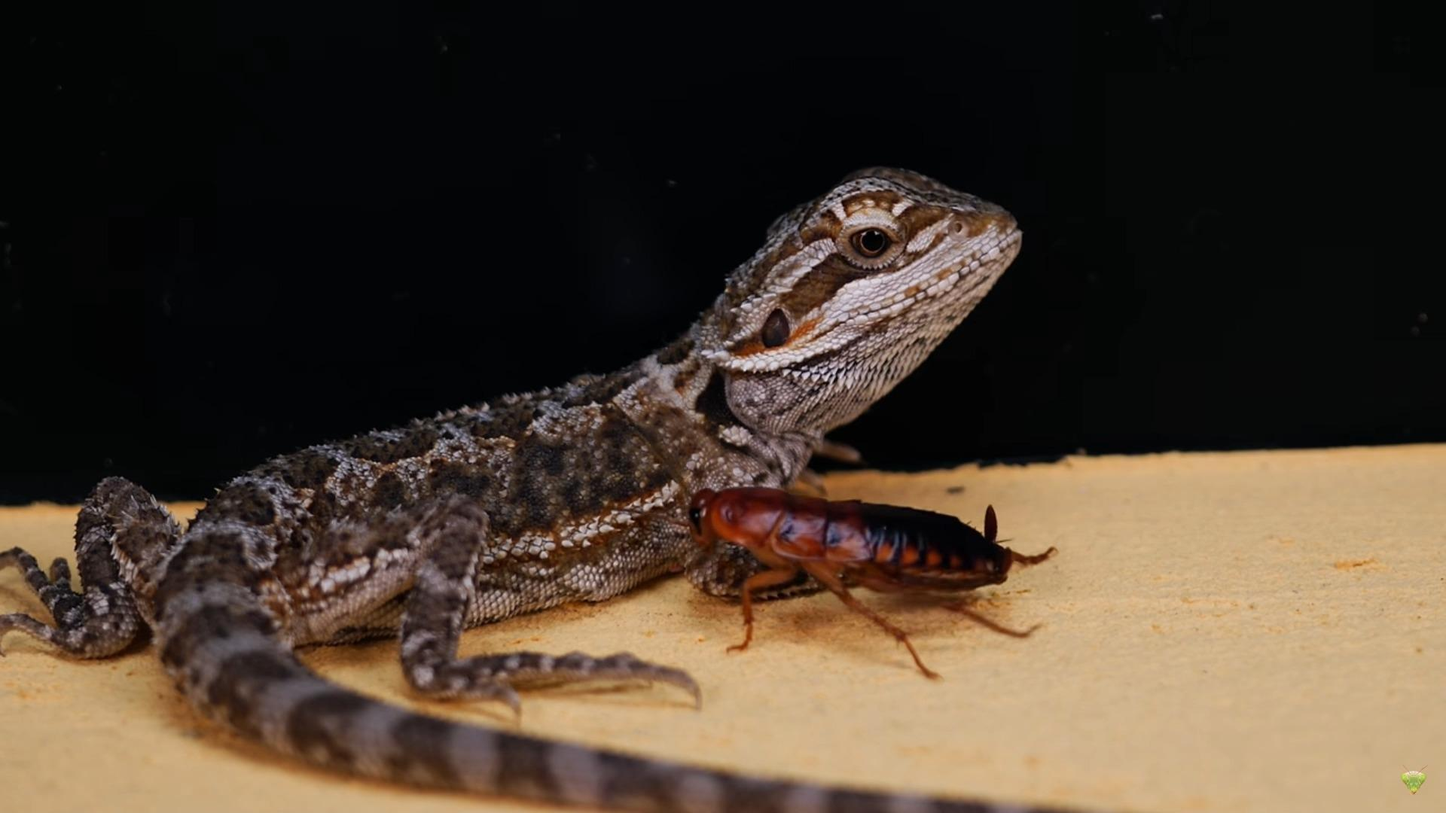cockroach: (684, 463, 1056, 679)
lizard: (5, 157, 1058, 813)
